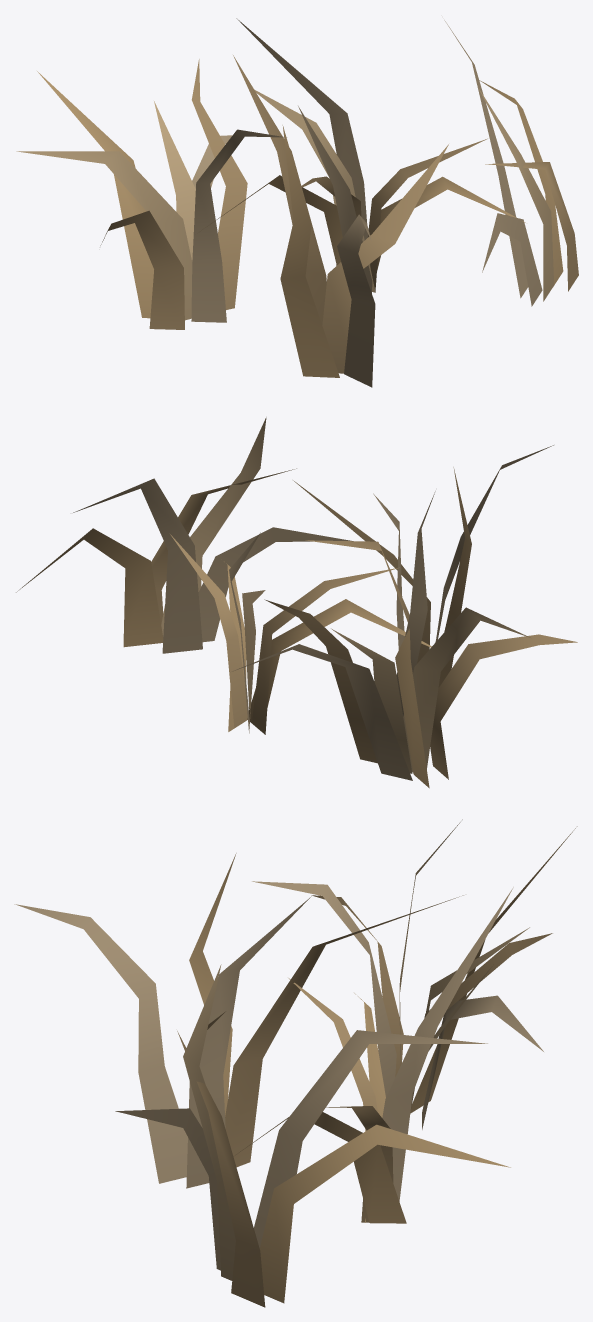
File: Grass_e_TwoS_06.fbx
3 views of the same model, one above another, from view 1: azimuth 30°, elevation 25°; view 2: azimuth 150°, elevation 25°; view 3: azimuth 270°, elevation 25° (orthographic). The views are drawn at different scales.
Parts seen in each view (by area): view 1: Grass_e_TwoS_06; view 2: Grass_e_TwoS_06; view 3: Grass_e_TwoS_06.
Part boxes in pixels (x1,y1,x2,y2): Grass_e_TwoS_06: (16, 18, 578, 387); Grass_e_TwoS_06: (16, 417, 577, 788); Grass_e_TwoS_06: (14, 819, 577, 1307).
Size of the model in its own units: 102 by 51.88 by 87.13.
